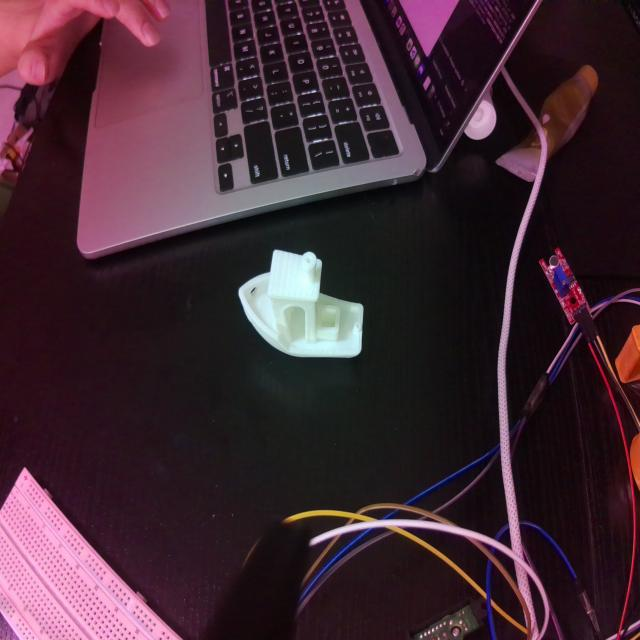ship: (239, 249, 364, 361)
